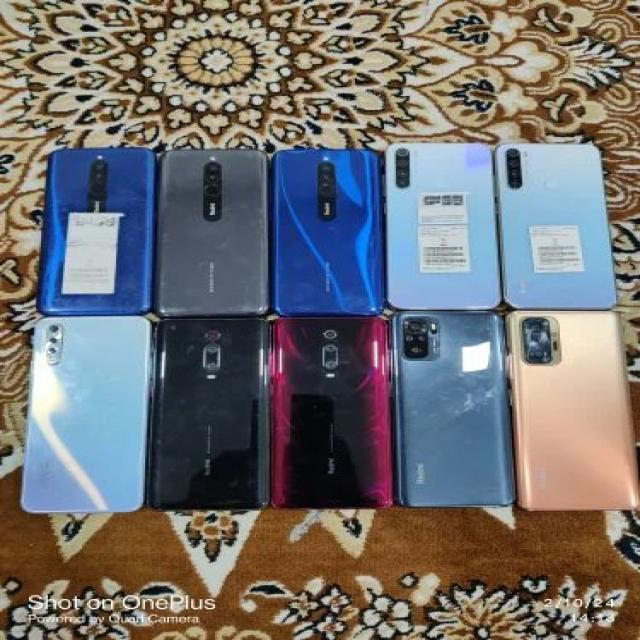mobile_phone: (251, 291, 394, 531), (16, 296, 160, 524), (382, 296, 514, 529), (506, 314, 640, 530), (371, 135, 518, 312), (264, 133, 389, 328), (158, 314, 260, 546), (16, 147, 157, 307), (152, 141, 276, 316), (504, 142, 626, 312)
